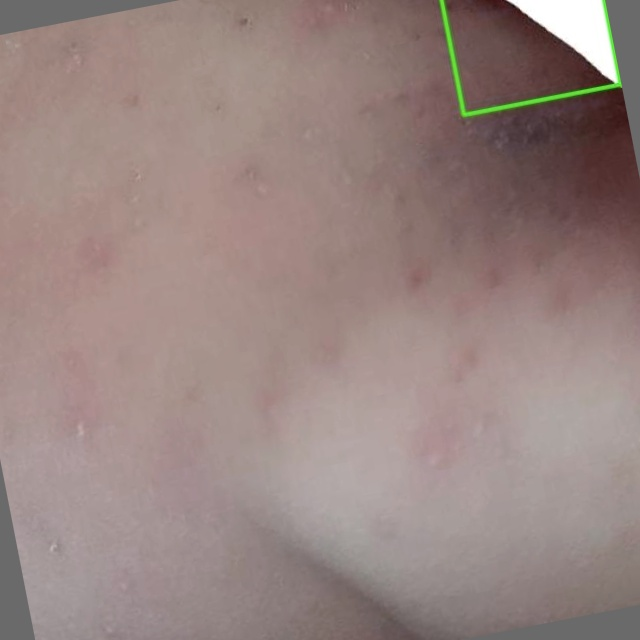Contact Dermatitis: (441, 0, 620, 115)
